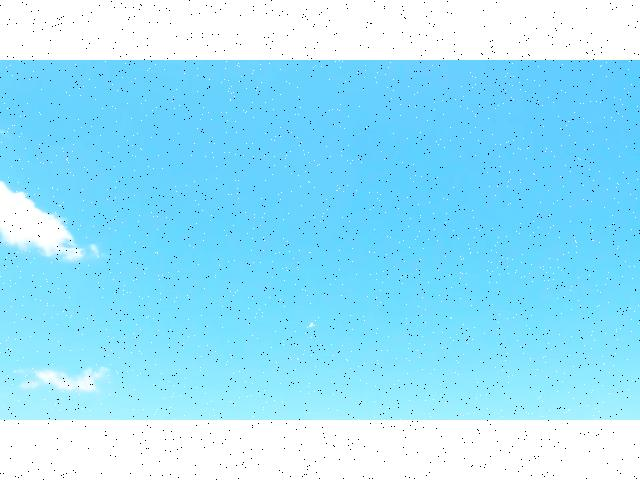Anti-Drone: (298, 314, 330, 338)
